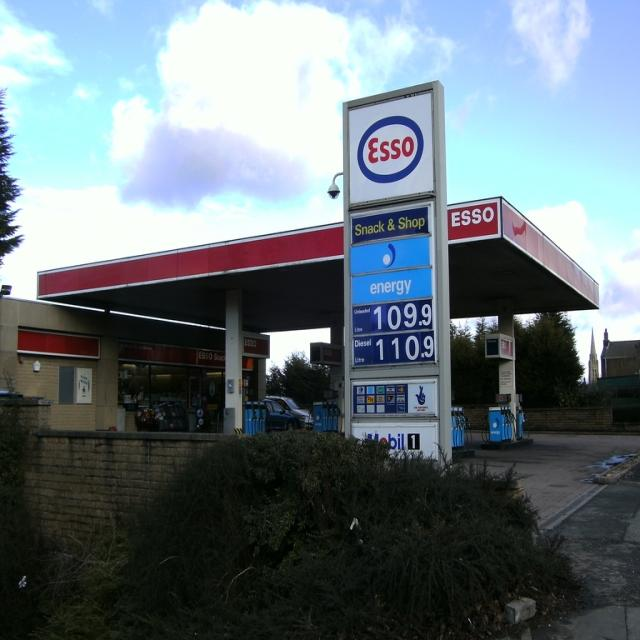esso: (356, 112, 429, 188)
